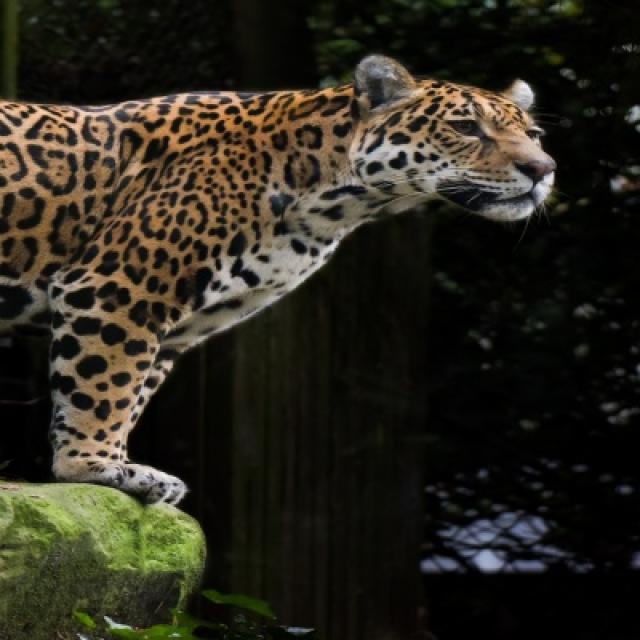Jaguar: (0, 54, 557, 510)
